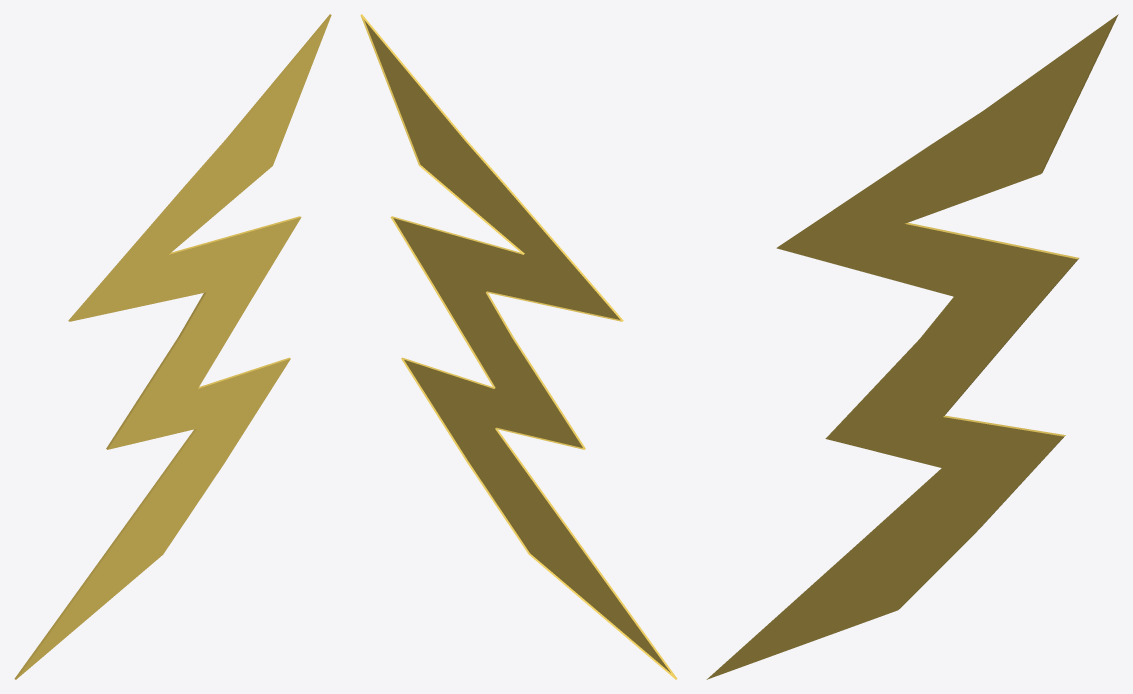
The model's file is Garage_Lightening.fbx.
3 renders of one model, left to right at view 1: azimuth 30°, elevation 25°; view 2: azimuth 150°, elevation 25°; view 3: azimuth 330°, elevation 25°, orthographic. The views are drawn at different scales.
Parts seen in each view (by area): view 1: Garage_Lightening; view 2: Garage_Lightening; view 3: Garage_Lightening.
Boxes of the visible parts, x1,y1,x2,y2 form: Garage_Lightening: (14,14,331,679); Garage_Lightening: (360,14,677,679); Garage_Lightening: (706,14,1118,679).
Bounding box in the file's own units: 143 × 1.21 × 255.
